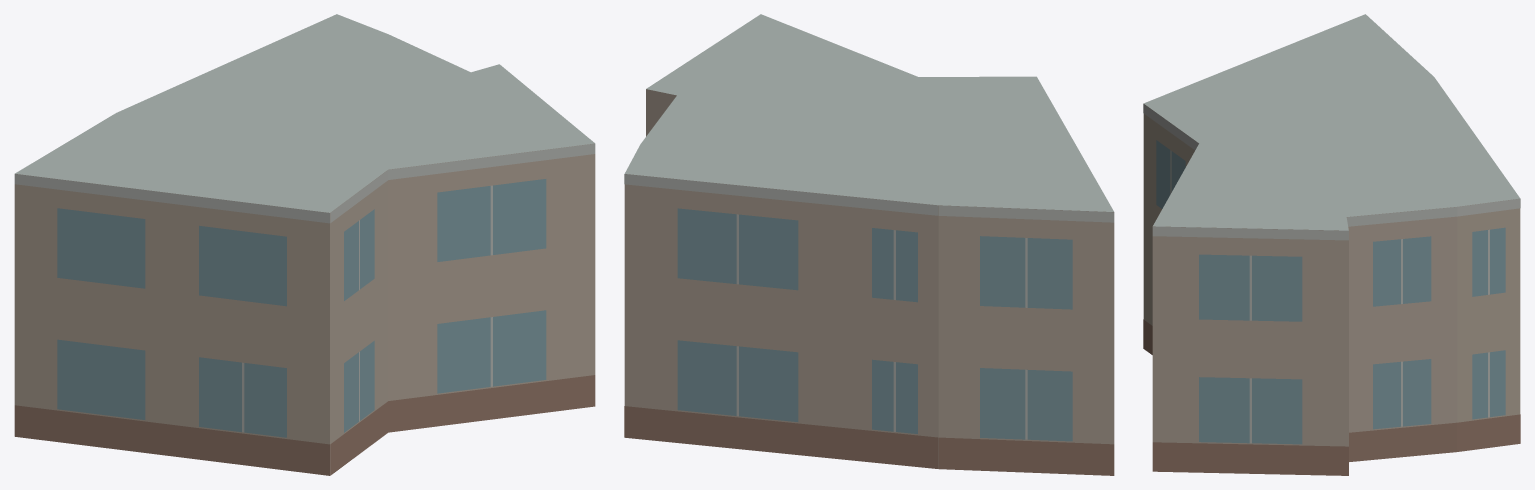
File: survey-upis-33044448.glb
3 views of the same model, side by side, from view 1: azimuth 30°, elevation 25°; view 2: azimuth 150°, elevation 25°; view 3: azimuth 270°, elevation 25° (orthographic). The views are drawn at different scales.
Parts seen in each view (by area): view 1: survey-upis-33044448.tmp; view 2: survey-upis-33044448.tmp; view 3: survey-upis-33044448.tmp.
Part boxes in pixels (box(x1,y1,x2,y2)): survey-upis-33044448.tmp: box(14, 14, 595, 475); survey-upis-33044448.tmp: box(624, 14, 1114, 475); survey-upis-33044448.tmp: box(1143, 14, 1520, 475).
Size of the model in its own units: 11.57 by 6.1 by 8.51.
